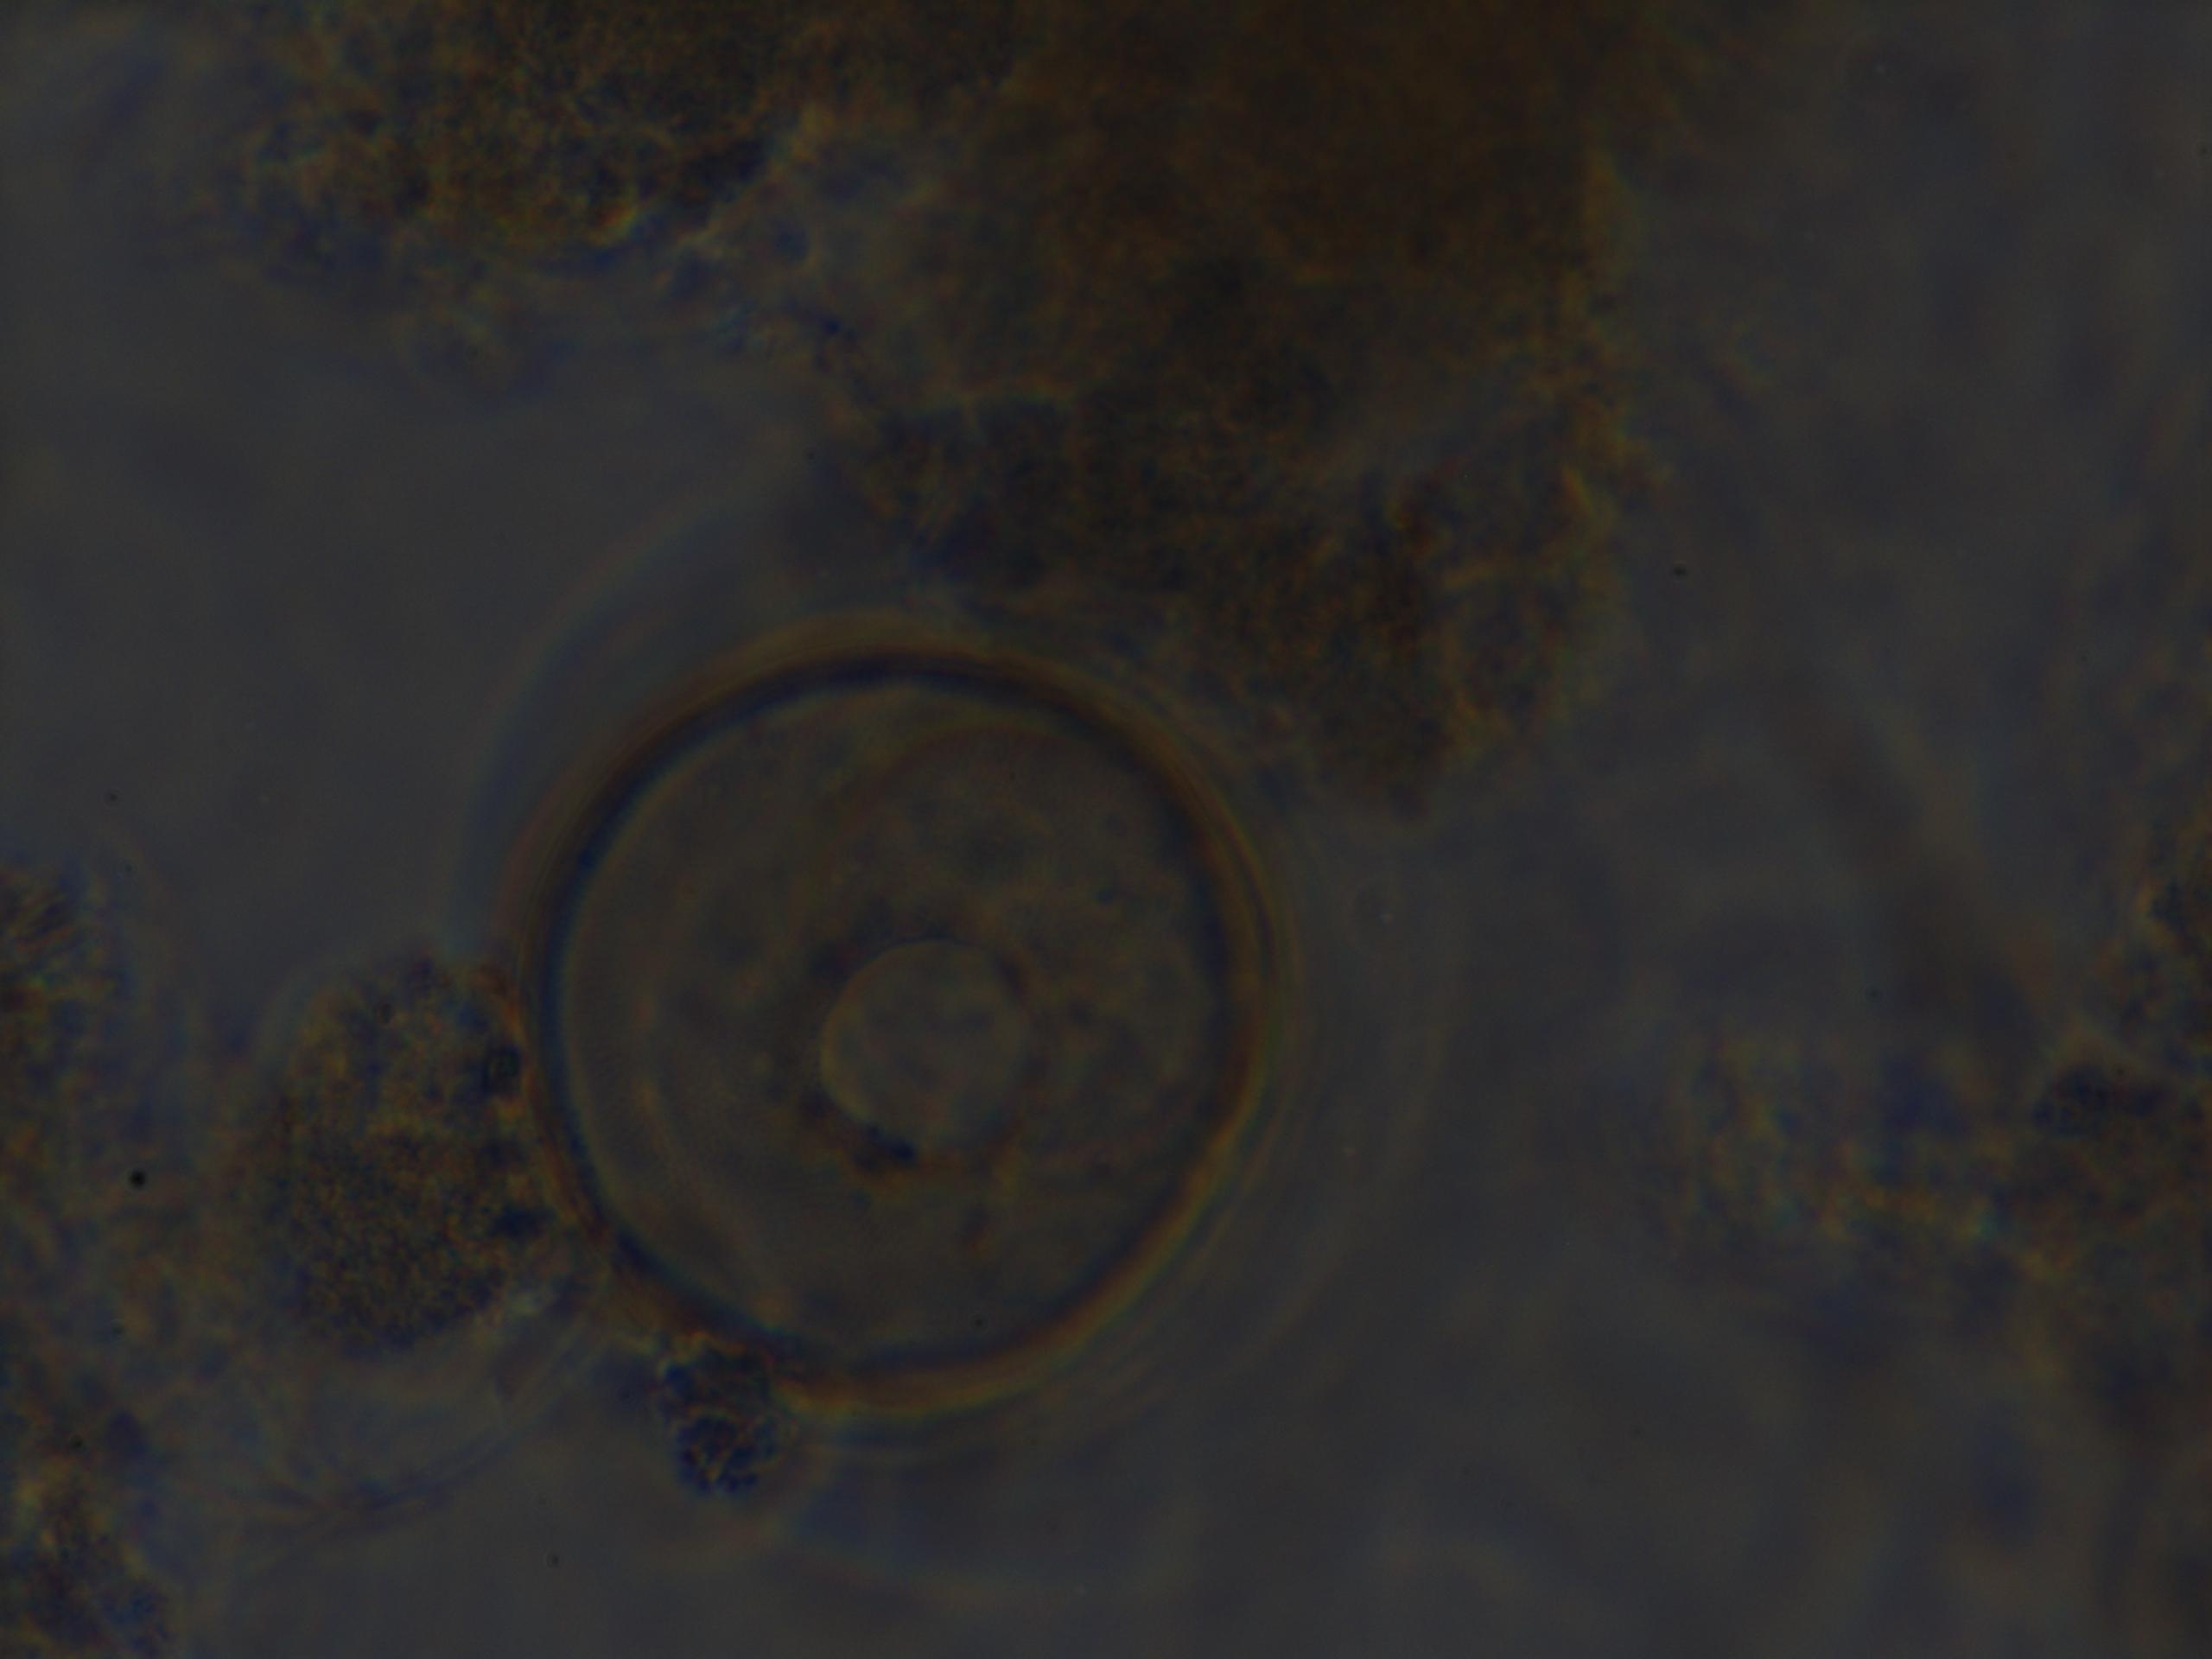protozoa: (503, 598, 1301, 1431)
